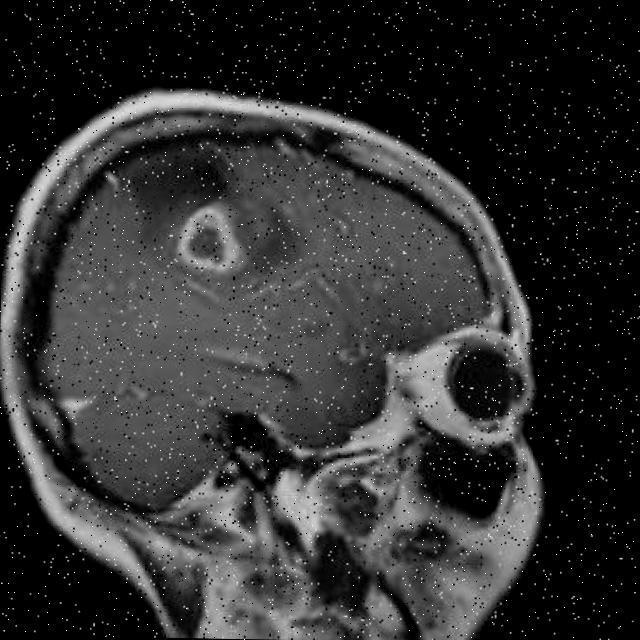LMCI: (115, 123, 306, 362)
